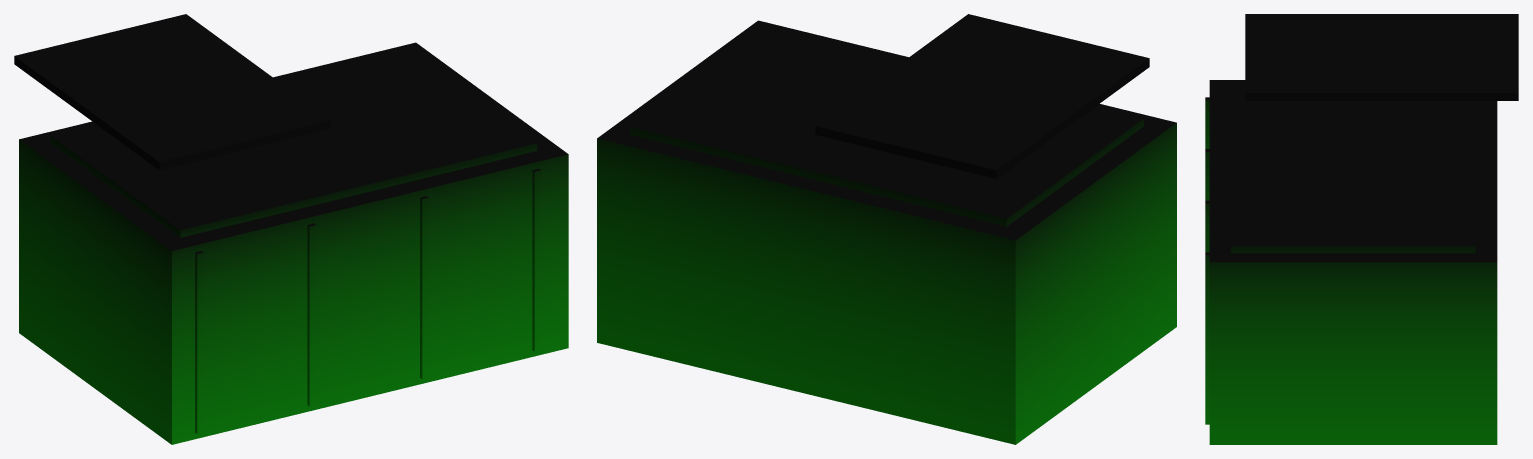
Rendered from dumpster.glb.
3 views of the same model, side by side, from view 1: azimuth 30°, elevation 25°; view 2: azimuth 150°, elevation 25°; view 3: azimuth 270°, elevation 25° (orthographic). The views are drawn at different scales.
Visible parts, largest first — view 1: lod0; view 2: lod0; view 3: lod0.
Boxes of the visible parts, x1,y1,x2,y2 form: lod0: (14, 14, 568, 444); lod0: (597, 14, 1176, 444); lod0: (1205, 14, 1518, 444).
Size of what is drawn, in the model's own units: 6 by 3.86 by 4.36.
